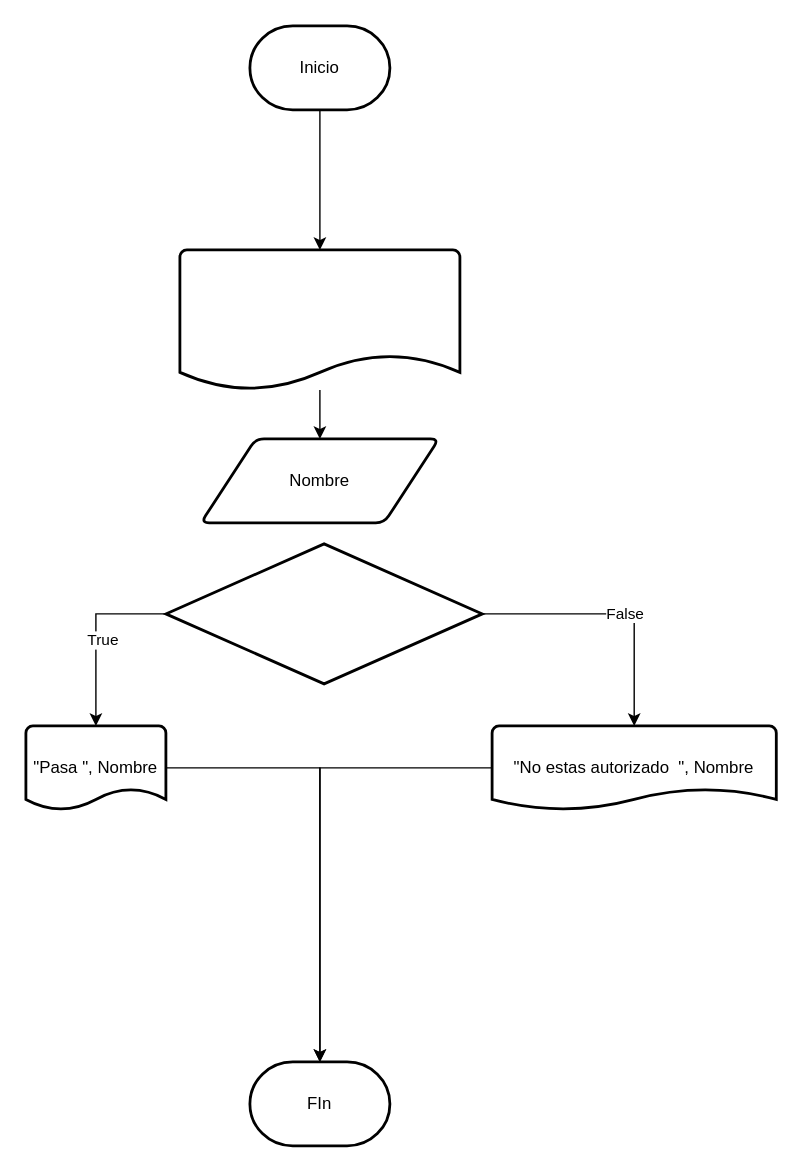
Image size: 801x1170. Some labels were removed from this diagram. The shapes that lost their labels are listed below. From the top down, each one's centre as x and y in pixels, then its label:
the point at 319,319: Por favor ponga su nombre
the point at 323,613: Nombre == "Maria"
